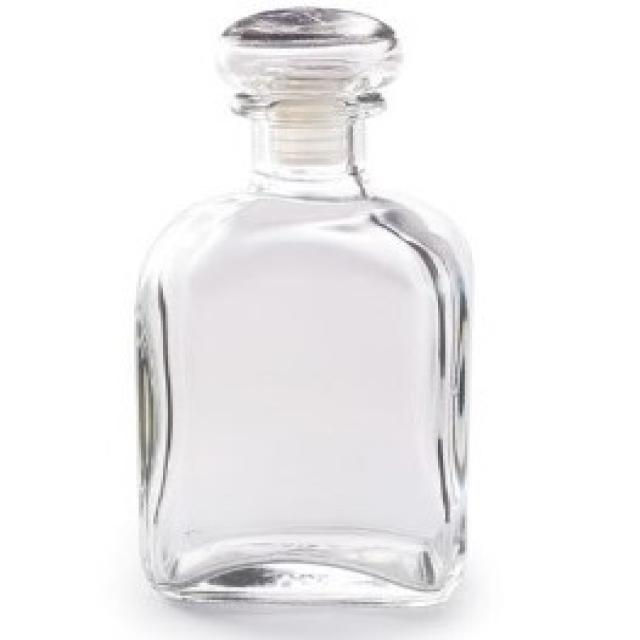electronic: (124, 7, 481, 631)
